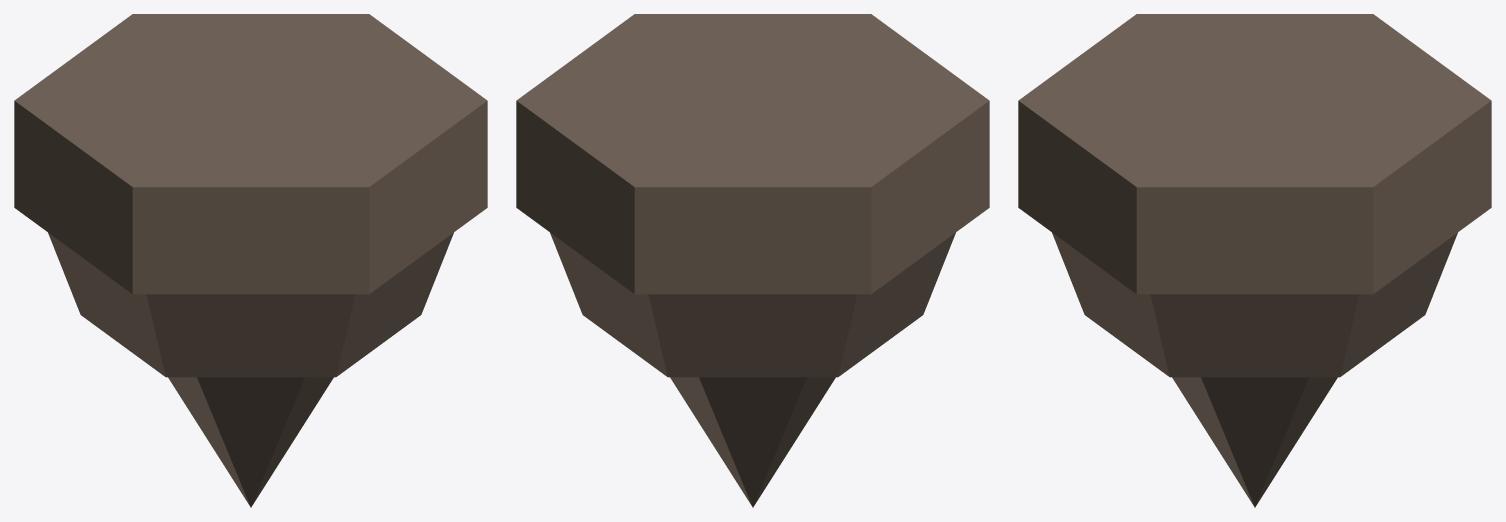
The model's file is ground_bottom.fbx.
3 views of the same model, side by side, from view 1: azimuth 30°, elevation 25°; view 2: azimuth 150°, elevation 25°; view 3: azimuth 270°, elevation 25° (orthographic).
Visible parts, largest first — view 1: Cylinder; view 2: Cylinder; view 3: Cylinder.
Boxes of the visible parts, bbox=[...] form: Cylinder: bbox=[14, 14, 487, 507]; Cylinder: bbox=[516, 14, 989, 507]; Cylinder: bbox=[1018, 14, 1491, 507].
Size of the model in its own units: 1.73 by 1.9 by 2.
